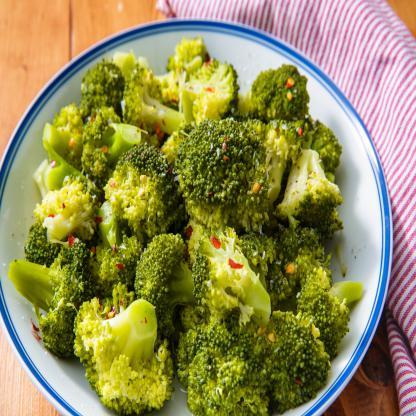broccoli: (7, 36, 365, 415)
